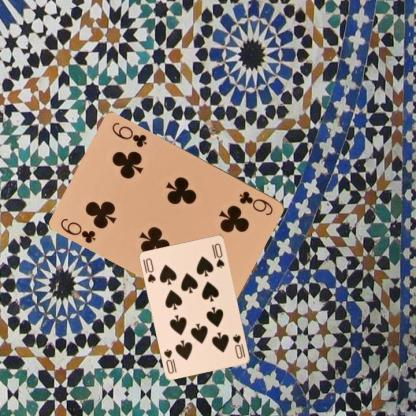10s: (230, 332, 247, 360), (143, 256, 157, 284)
6c: (58, 215, 98, 245), (237, 188, 274, 216)
